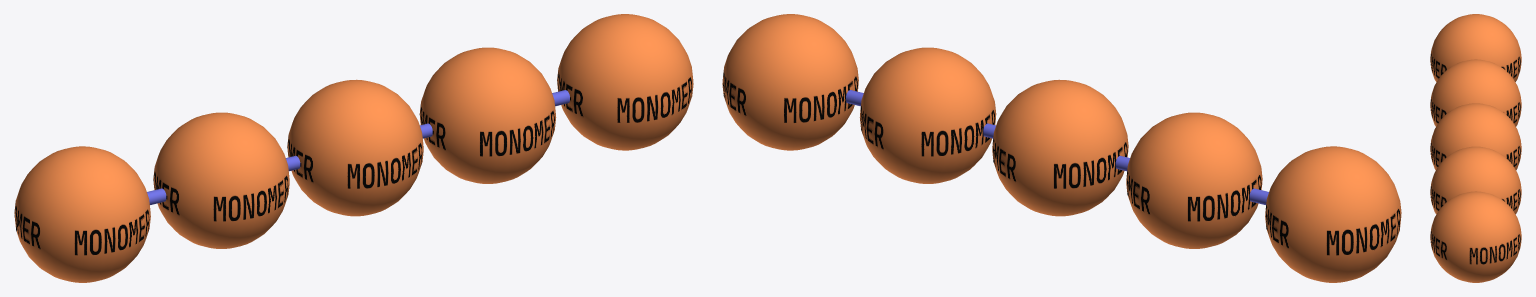
Rendered from chapter-1-section-1-polymer.glb.
The picture shows the model from 3 angles, left to right: view 1: azimuth 30°, elevation 25°; view 2: azimuth 150°, elevation 25°; view 3: azimuth 270°, elevation 25°; orthographic projection. The views are drawn at different scales.
Parts seen in each view (by area): view 1: Sphere.002, Sphere.001, Sphere.003, Sphere, Sphere.004, Cylinder; view 2: Sphere.002, Sphere.001, Sphere.003, Sphere, Sphere.004, Cylinder; view 3: Sphere.004, Sphere.002, Sphere.003, Sphere.001, Sphere.
Boxes of the visible parts, x1,y1,x2,y2 form: Sphere.002: [14, 146, 150, 282]; Sphere.001: [153, 112, 289, 248]; Sphere.003: [419, 47, 556, 183]; Sphere: [287, 79, 423, 216]; Sphere.004: [557, 14, 693, 150]; Cylinder: [147, 90, 569, 204]; Sphere.002: [1265, 146, 1401, 282]; Sphere.001: [1126, 112, 1262, 248]; Sphere.003: [859, 47, 996, 183]; Sphere: [992, 79, 1128, 216]; Sphere.004: [722, 14, 858, 150]; Cylinder: [846, 90, 1268, 204]; Sphere.004: [1430, 191, 1521, 282]; Sphere.002: [1430, 14, 1521, 81]; Sphere.003: [1430, 146, 1521, 214]; Sphere.001: [1430, 59, 1521, 126]; Sphere: [1430, 103, 1521, 170].
Size of the model in its own units: 11.16 by 2 by 2.
Materials: 2 (1 with a texture image).
